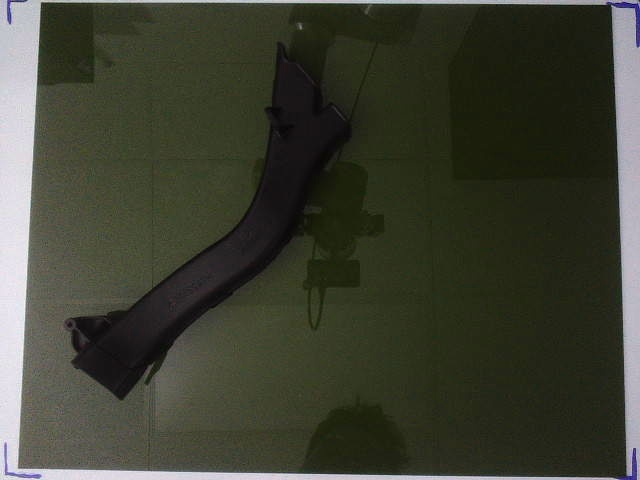887_A-Top: (64, 43, 352, 400)
